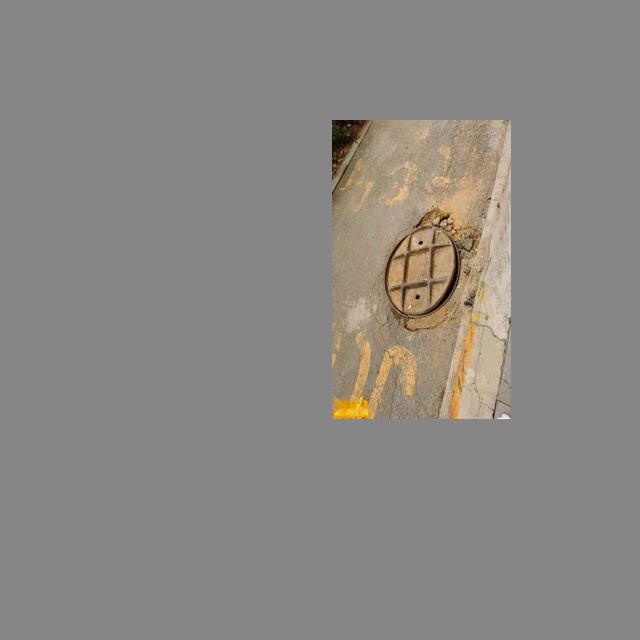circle: (372, 206, 491, 339)
